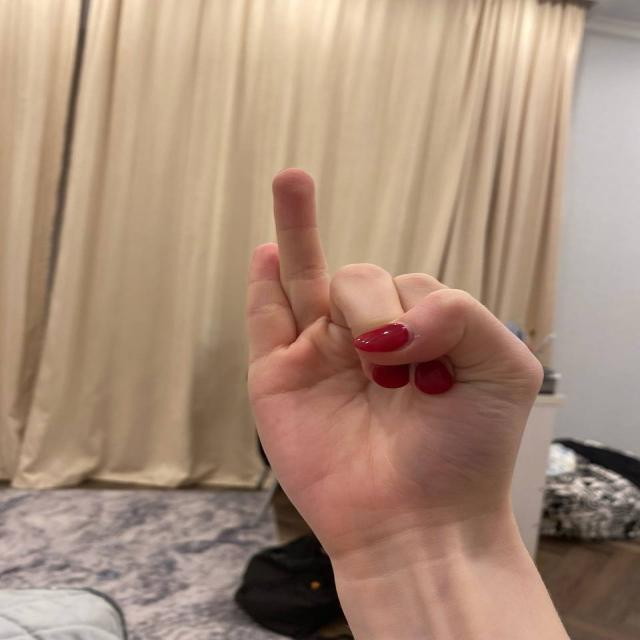i: (209, 148, 540, 470)
